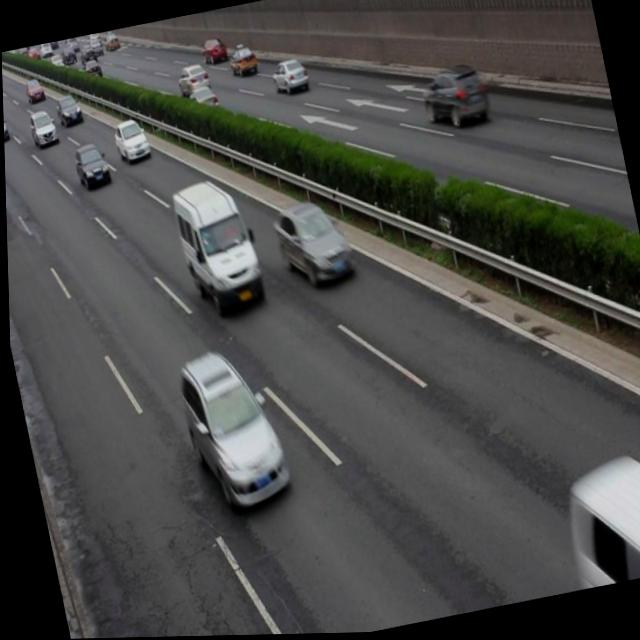car: (172, 341, 291, 520), (270, 195, 354, 293), (415, 60, 491, 135), (70, 140, 112, 194), (111, 116, 151, 164), (268, 56, 309, 97), (183, 85, 220, 121), (175, 63, 211, 97), (226, 45, 258, 79)
truck: (166, 173, 264, 318)
